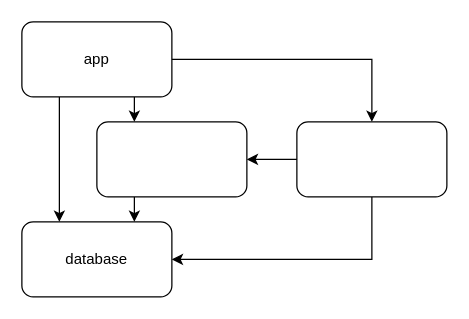
This 469x319 diagram has some shape labels left out. Here are the shapes that lost their labels. From the top down, the centre of each, then its label:
[171,159]: core
[371,159]: maps
